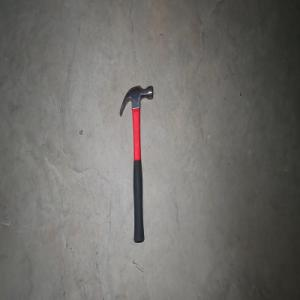Hammer: (118, 85, 153, 244)
